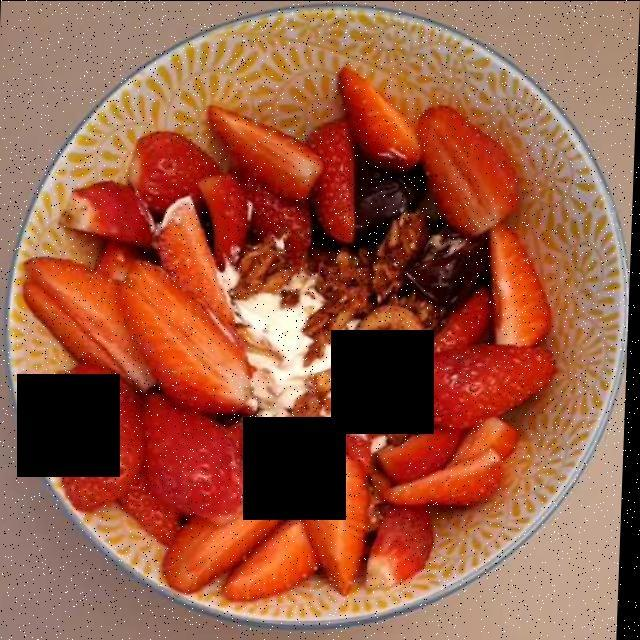curd: (216, 258, 388, 472)
dates: (337, 166, 483, 314)
strawberries: (18, 69, 580, 600)
